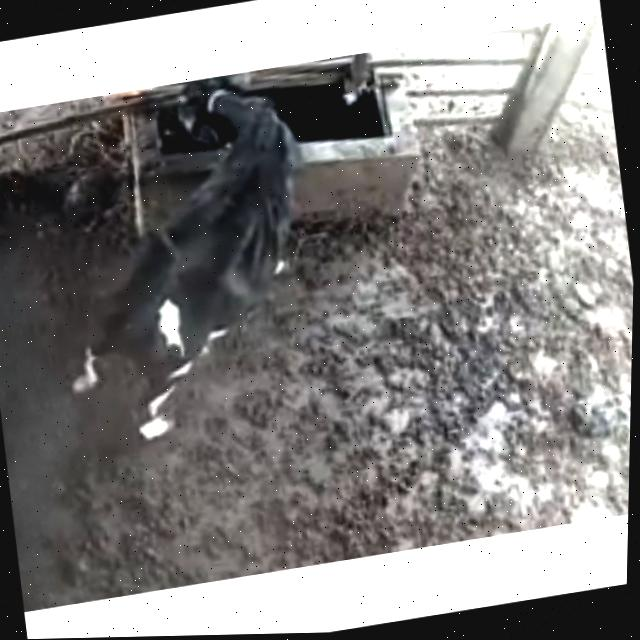drink: (137, 63, 309, 169)
